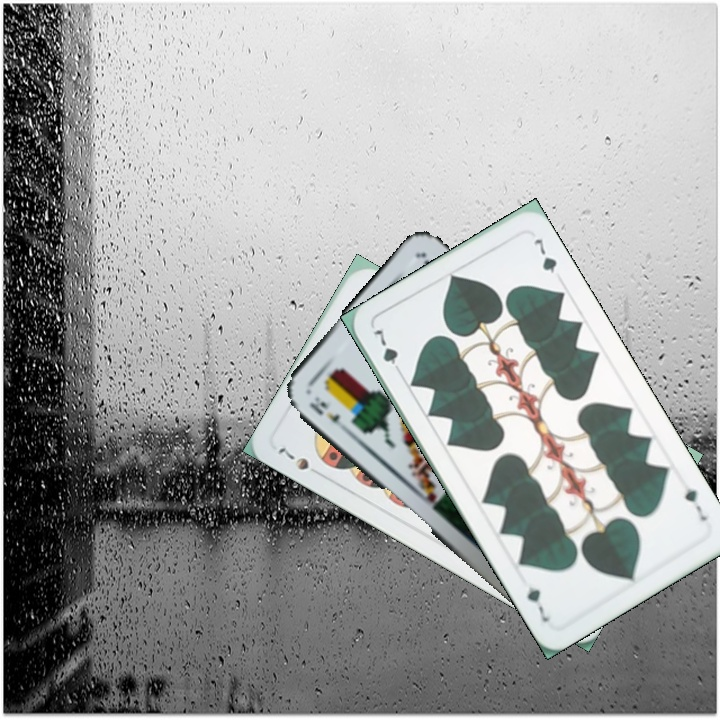EK: (305, 392, 351, 435)
G7: (369, 323, 406, 379), (680, 483, 710, 524)
S7: (274, 443, 326, 480)
